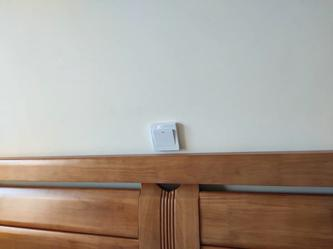switch: (154, 132, 168, 146)
